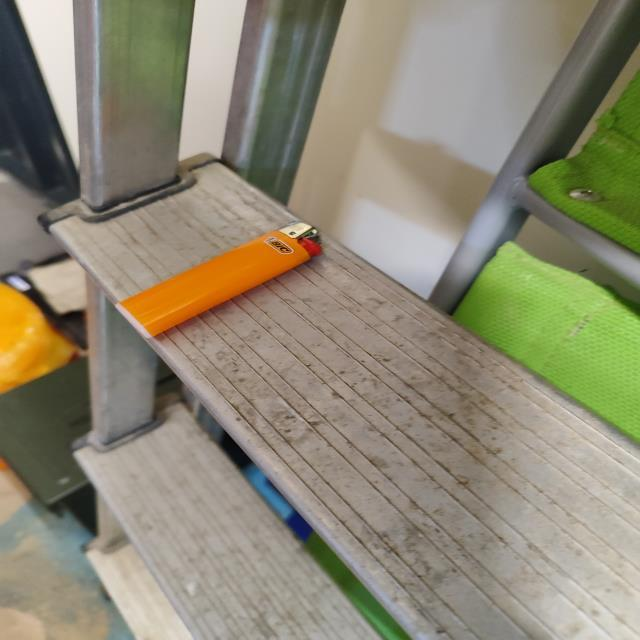lighter: (119, 223, 320, 336)
